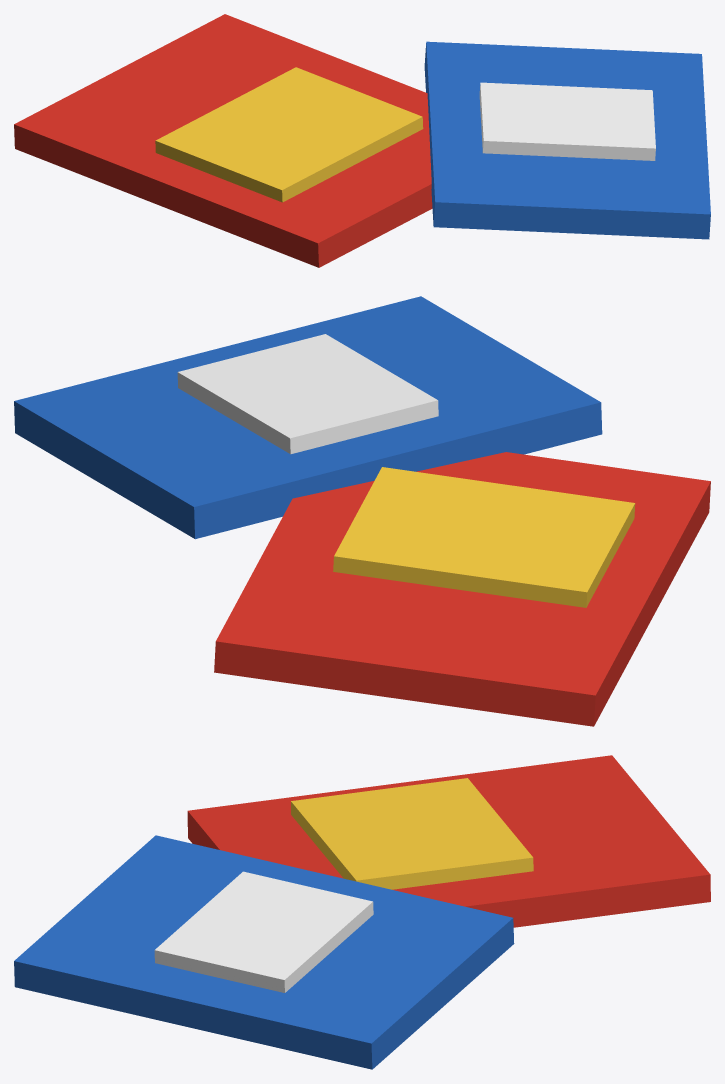
The model's file is waste_sachet.fbx.
3 views of the same model, one above another, from view 1: azimuth 30°, elevation 25°; view 2: azimuth 150°, elevation 25°; view 3: azimuth 270°, elevation 25° (orthographic). The views are drawn at different scales.
Visible parts, largest first — view 1: M__waste_sachet; view 2: M__waste_sachet; view 3: M__waste_sachet.
Part boxes in pixels (x1,y1,x2,y2): M__waste_sachet: (14,14,710,267); M__waste_sachet: (14,296,710,726); M__waste_sachet: (14,755,710,1069).
Size of the model in its own units: 0.1925 by 0.0197 by 0.1882.
